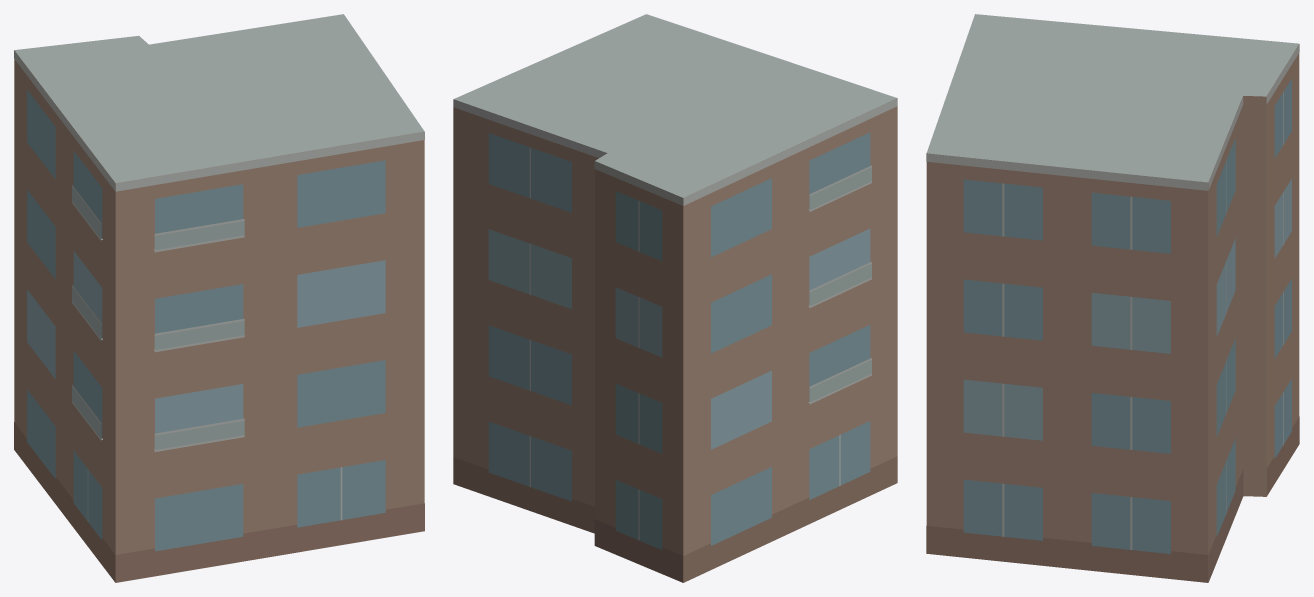
The model's file is survey-upis-32820972.glb.
3 renders of one model, left to right at view 1: azimuth 30°, elevation 25°; view 2: azimuth 150°, elevation 25°; view 3: azimuth 270°, elevation 25°, orthographic. The views are drawn at different scales.
Visible parts, largest first — view 1: survey-upis-32820972.tmp; view 2: survey-upis-32820972.tmp; view 3: survey-upis-32820972.tmp.
Part boxes in pixels (bbox=[...]): survey-upis-32820972.tmp: bbox=[14, 14, 424, 582]; survey-upis-32820972.tmp: bbox=[453, 14, 897, 582]; survey-upis-32820972.tmp: bbox=[926, 14, 1299, 582].
Size of the model in its own units: 10.53 by 11.65 by 9.85.
